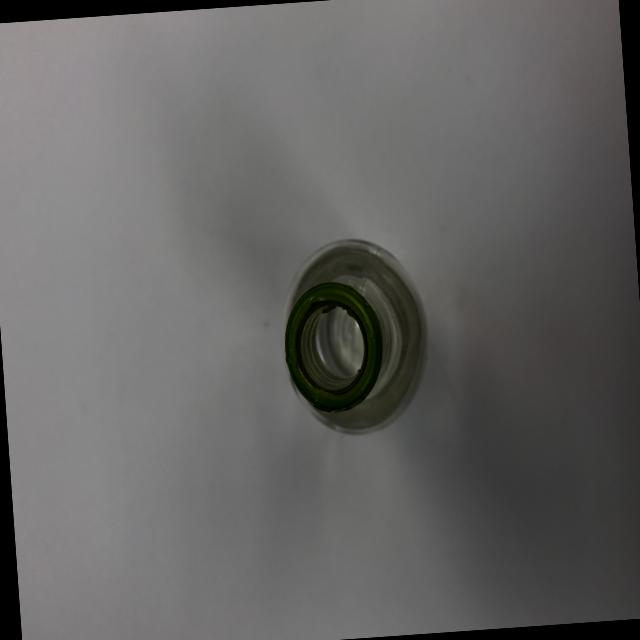Glass: (247, 209, 451, 458)
